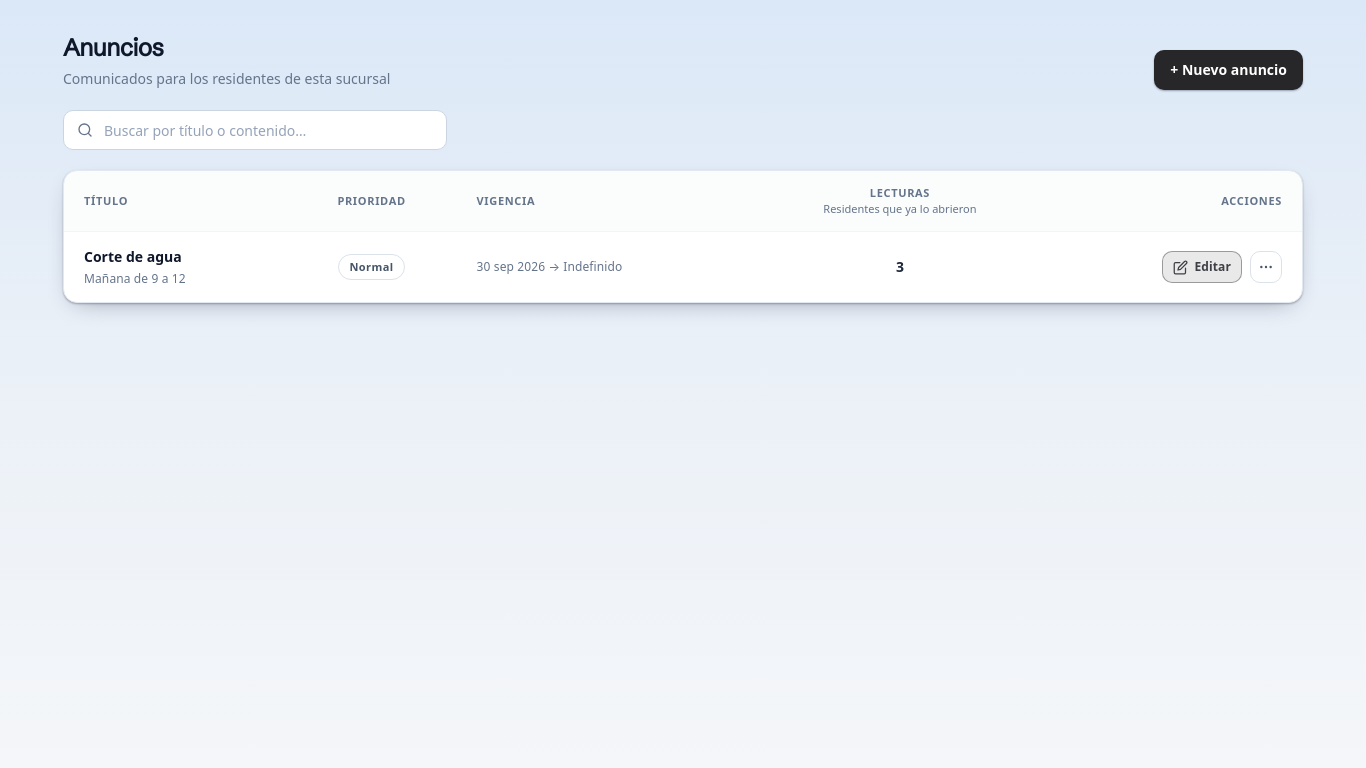
Test: AnunciosPage — publicar › al EDITAR el botón sigue siendo «Guardar» y el aviso habla de cambios inmediatos
This screenshot has width=1366, height=768.
What coordinates should you click on to do the following:
click the button "Editar"
I would click on:
 (1202, 267)
Its box is top-left (1162, 251), bottom-right (1242, 283).
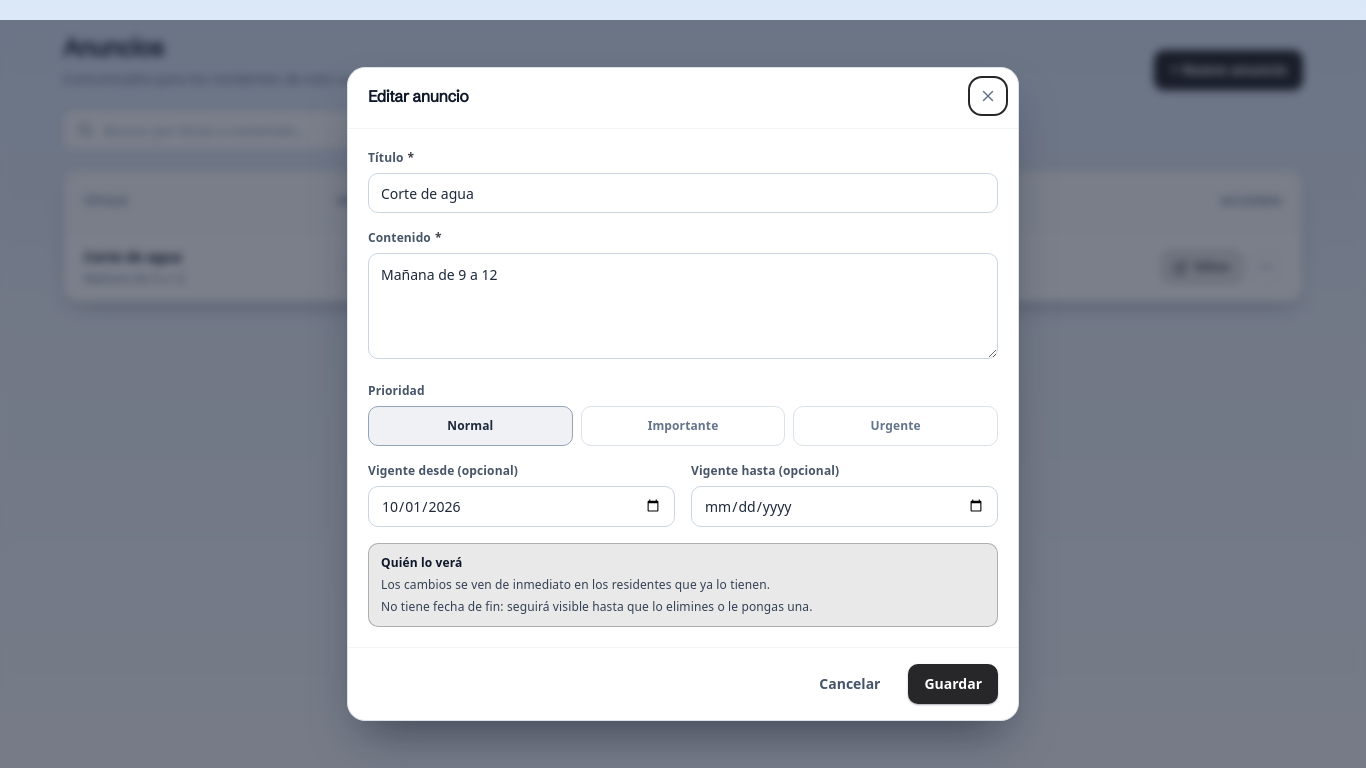
Result: the button "Guardar" is shown at top-left (908, 664), bottom-right (998, 704)
Result: the element that starts with "Quién lo verá" shows "Los cambios se ven de inmediato" at top-left (381, 576), bottom-right (770, 593)
